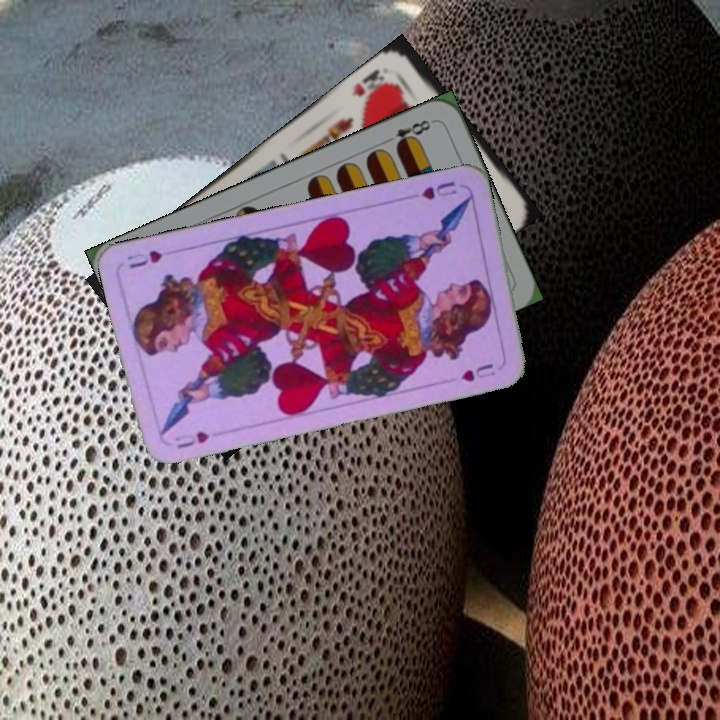E8: (381, 115, 437, 151)
HK: (347, 65, 395, 106)
HU: (417, 177, 460, 203), (171, 427, 212, 451)
